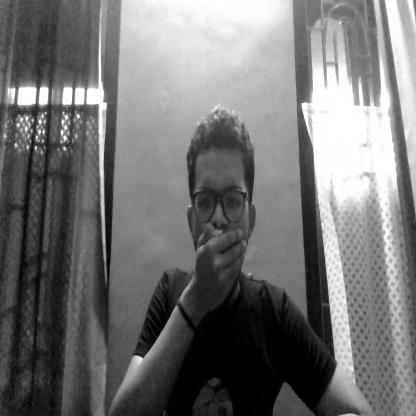Normal: (186, 98, 257, 290)
